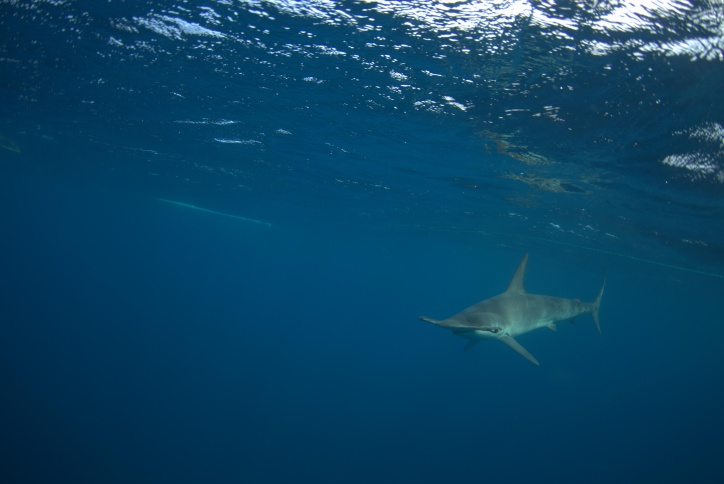Hammer: (386, 239, 644, 379)
